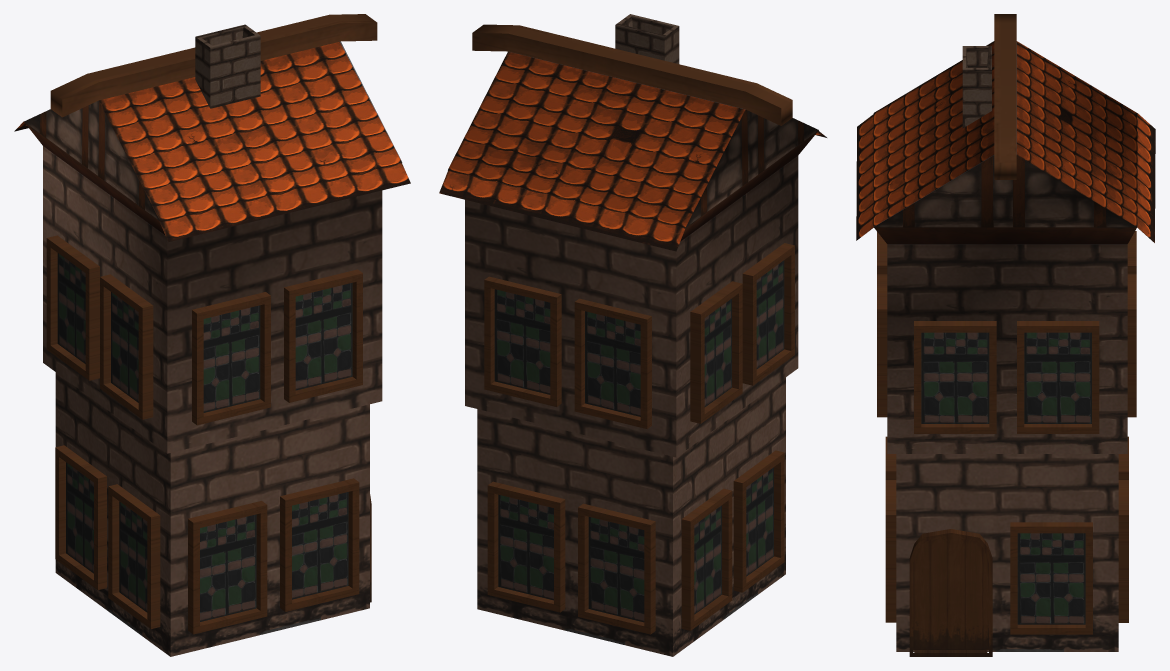
Rendered from Tower_6.fbx.
The picture shows the model from 3 angles, left to right: view 1: azimuth 30°, elevation 25°; view 2: azimuth 150°, elevation 25°; view 3: azimuth 270°, elevation 25°; orthographic projection. The views are drawn at different scales.
Parts seen in each view (by area): view 1: Cube.2; view 2: Cube.2; view 3: Cube.2.
Part boxes in pixels (bbox=[...]): Cube.2: bbox=[14, 14, 410, 656]; Cube.2: bbox=[439, 14, 826, 656]; Cube.2: bbox=[856, 14, 1155, 656].
Size of the model in its own units: 316 by 544 by 269.
1 material, 1 textured.
